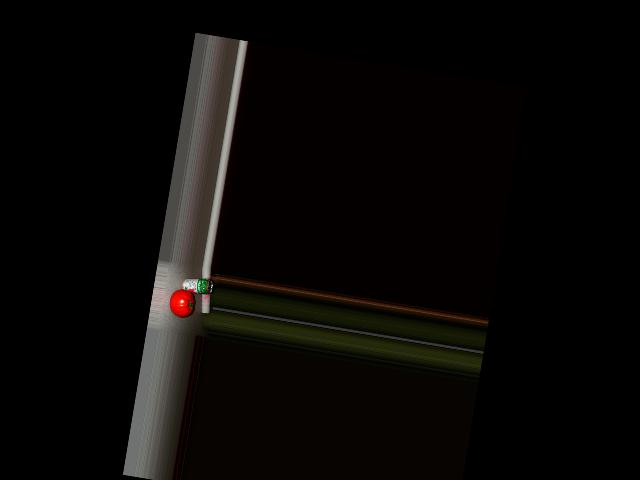tomato: (167, 288, 195, 319)
